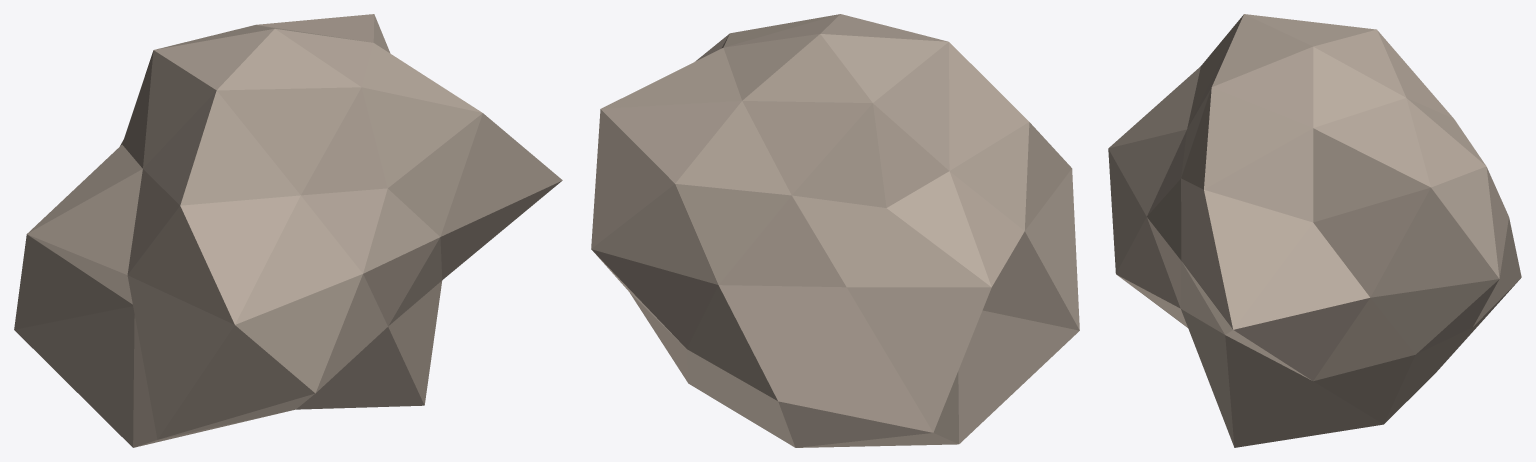
Rendered from Asteroid_Large.fbx.
The picture shows the model from 3 angles, left to right: view 1: azimuth 30°, elevation 25°; view 2: azimuth 150°, elevation 25°; view 3: azimuth 270°, elevation 25°; orthographic projection. The views are drawn at different scales.
Parts seen in each view (by area): view 1: Asteroid_Large; view 2: Asteroid_Large; view 3: Asteroid_Large.
Part boxes in pixels (left/top/right/bottom): Asteroid_Large: left=14, top=14, right=562, bottom=447; Asteroid_Large: left=591, top=14, right=1079, bottom=447; Asteroid_Large: left=1108, top=14, right=1521, bottom=447.
Bounding box in the file's own units: 5.36 × 4.31 × 4.45.
